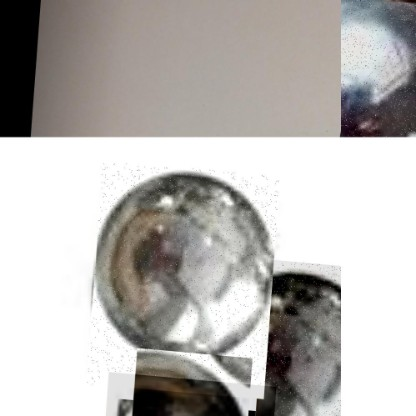ironball: (90, 157, 280, 393), (255, 253, 340, 415), (340, 0, 415, 137), (104, 368, 280, 415)
